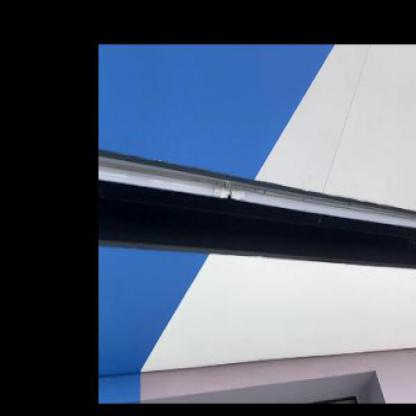light_off: (100, 121, 415, 252)
